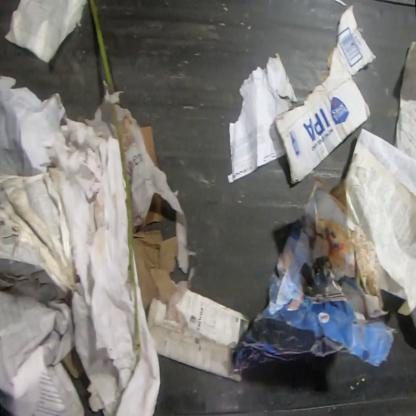cardboard: (276, 6, 378, 185), (304, 176, 390, 321), (131, 229, 180, 309), (138, 125, 156, 169), (141, 195, 164, 226)
